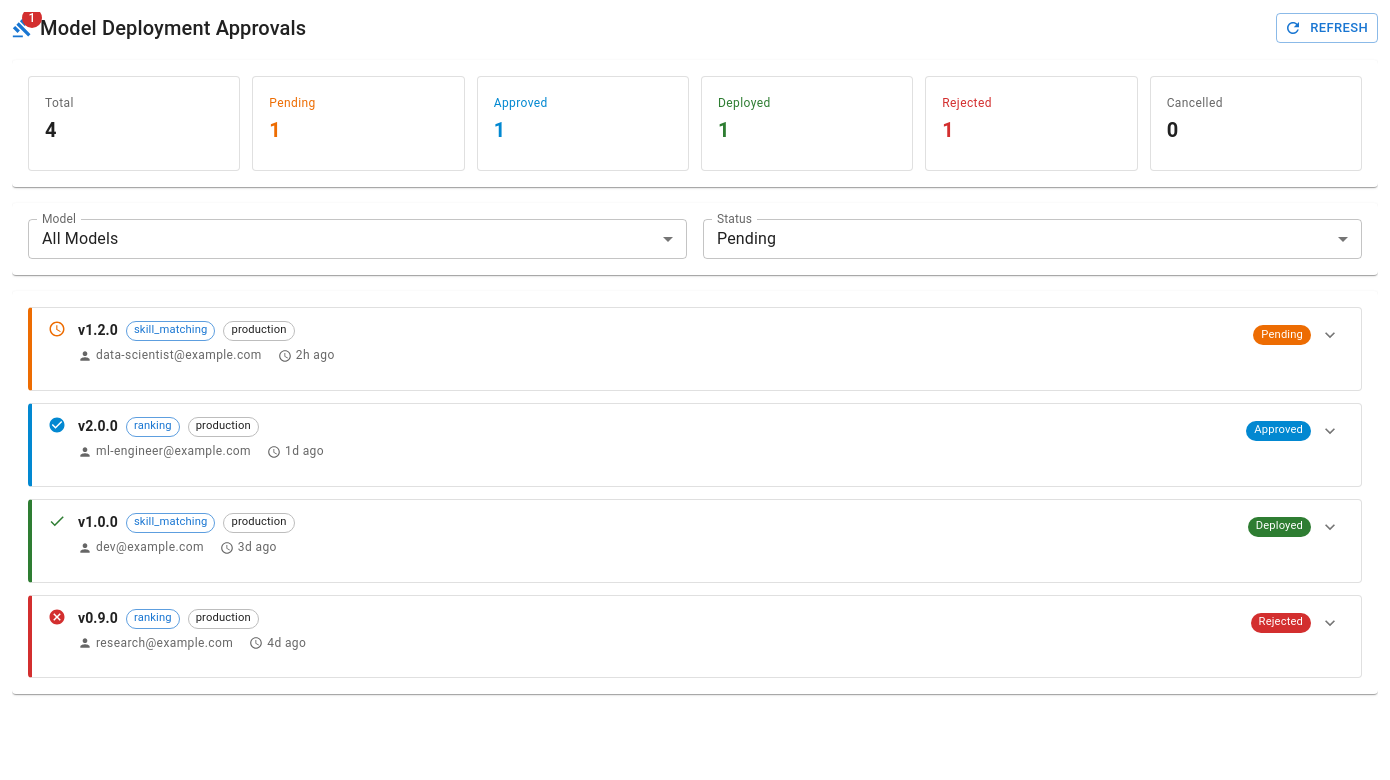
Test case: ModelApprovalPanel › Card Expansion › shows justification when expanded
This screenshot has width=1390, height=780.
Expected: the heading "v1.2.0" is shown, [78,320,118,342]
Click the button without text in the row of "2h ago".
click(1330, 335)  # box [1315,320,1345,350]
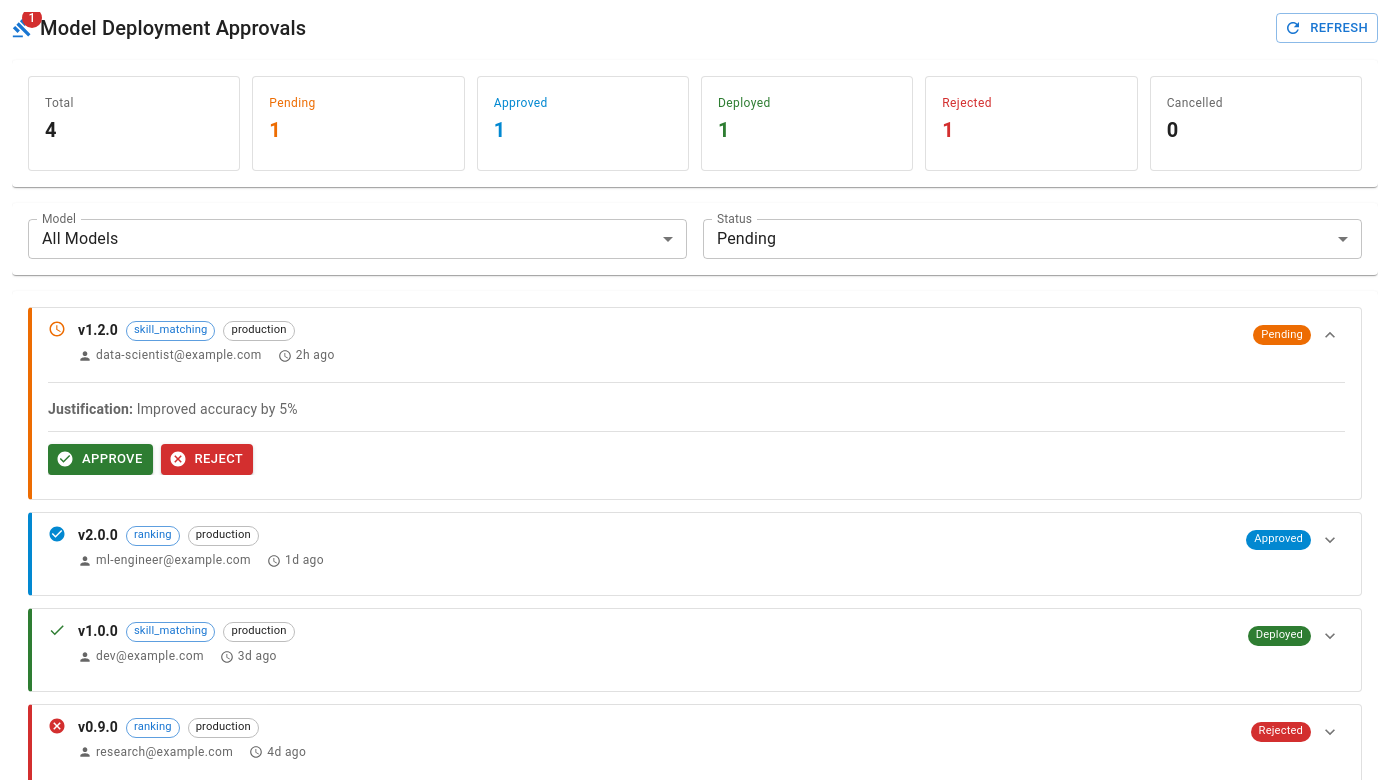
Now the text "Justification: Improved accuracy by 5%" is shown, box [48,401,298,417]
